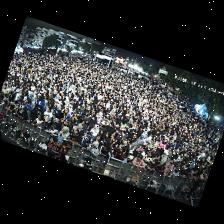person: (98, 145, 111, 169), (41, 107, 51, 128), (131, 155, 144, 169), (68, 130, 80, 145), (61, 118, 71, 135), (86, 142, 98, 156), (46, 123, 60, 134), (52, 104, 60, 122), (57, 126, 68, 139), (145, 159, 156, 172), (113, 147, 124, 160), (109, 138, 118, 153), (31, 115, 43, 126), (80, 136, 90, 149), (80, 130, 90, 143), (159, 150, 167, 165), (100, 133, 110, 145), (60, 108, 69, 121), (73, 124, 82, 137), (91, 135, 101, 146), (16, 108, 26, 119), (178, 168, 189, 178), (24, 99, 30, 117), (171, 166, 180, 178), (128, 142, 136, 155), (164, 159, 175, 168), (144, 148, 155, 157), (143, 152, 152, 163), (91, 125, 98, 139), (127, 134, 136, 144), (135, 136, 142, 148), (162, 168, 171, 177), (157, 139, 166, 148), (106, 123, 114, 133), (147, 140, 155, 149), (123, 155, 132, 163), (81, 120, 86, 133), (57, 153, 65, 161), (0, 100, 7, 109), (14, 89, 20, 99), (7, 102, 13, 112), (118, 140, 126, 147), (96, 112, 101, 123), (30, 97, 34, 110)
